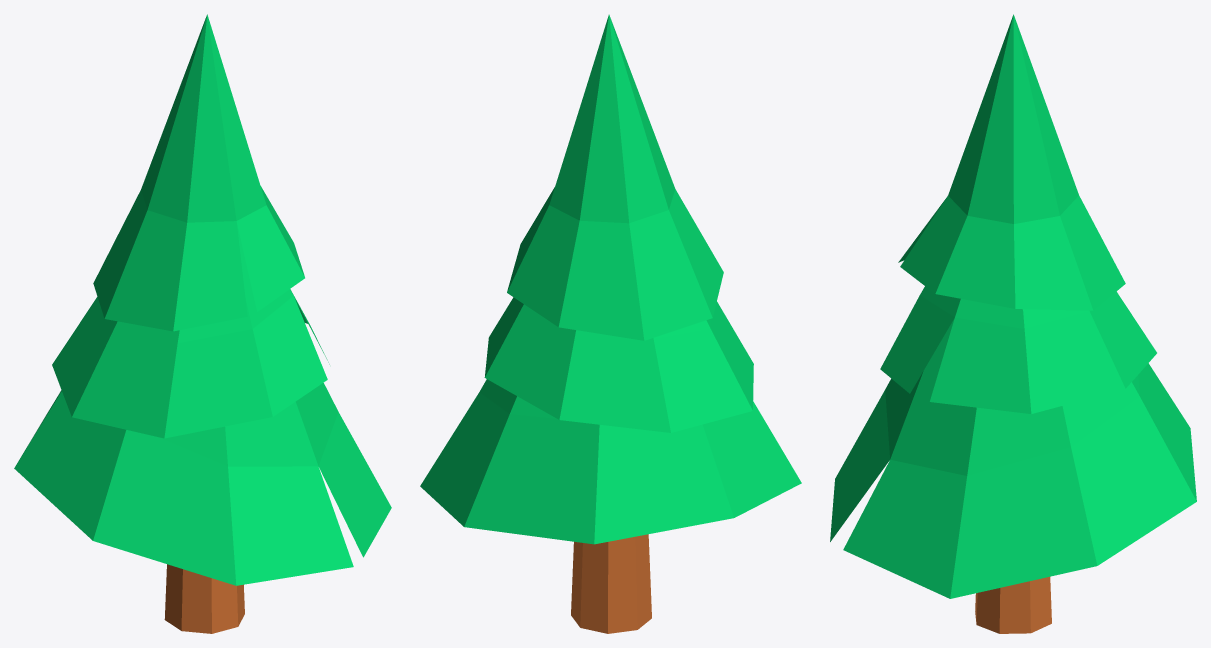
Rendered from trees_2.fbx.
The picture shows the model from 3 angles, left to right: view 1: azimuth 30°, elevation 25°; view 2: azimuth 150°, elevation 25°; view 3: azimuth 270°, elevation 25°; orthographic projection.
Parts seen in each view (by area): view 1: 2; view 2: 2; view 3: 2.
Part boxes in pixels (<box>): 2: <box>14,14,391,633</box>; 2: <box>420,14,801,633</box>; 2: <box>830,14,1196,633</box>.
Bounding box in the file's own units: 2.57 × 4.74 × 2.61.
